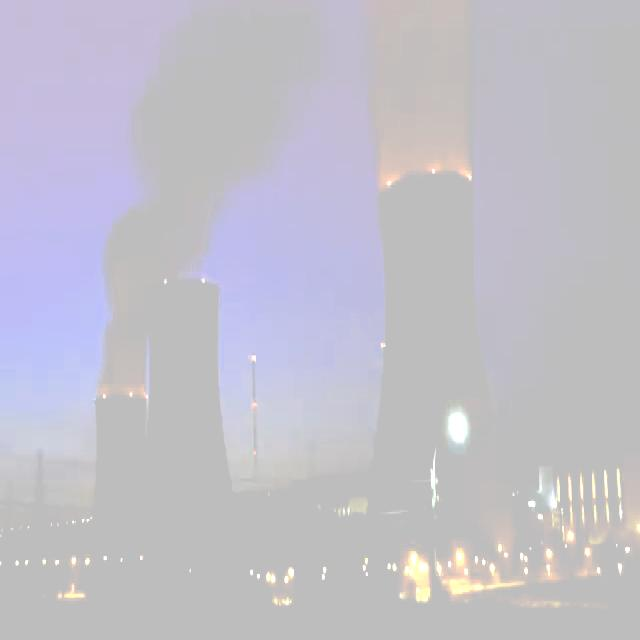smoke: (104, 0, 328, 375), (368, 0, 471, 190)
